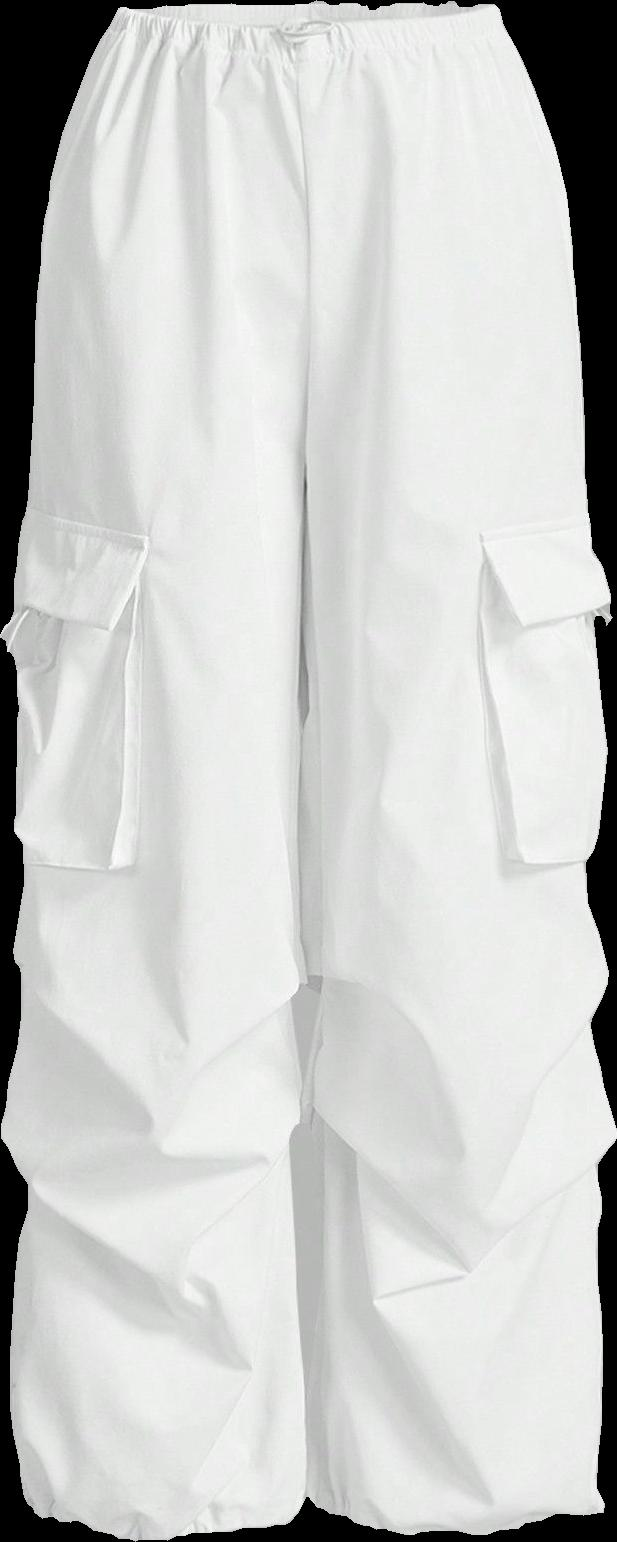Pantleg: (295, 0, 616, 1535), (1, 4, 321, 1537)
Waistline: (114, 0, 496, 28)
